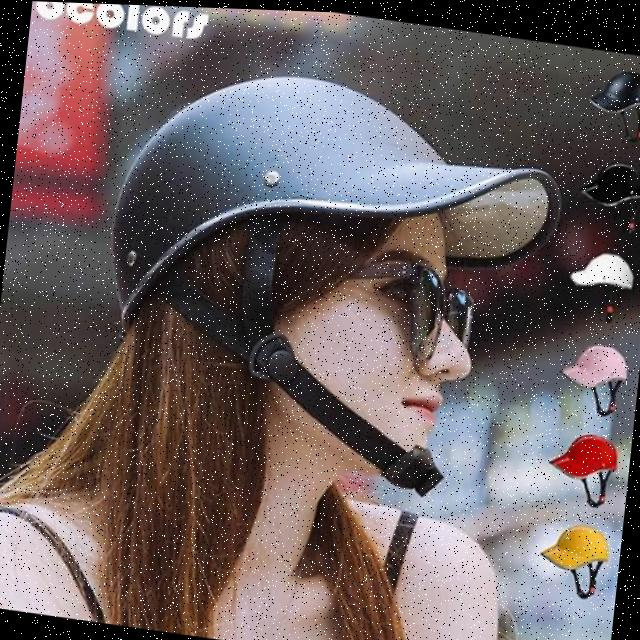illegal_helmet: (75, 40, 576, 513), (526, 502, 618, 606), (536, 415, 624, 510), (562, 225, 640, 326), (554, 324, 635, 418), (572, 137, 640, 233), (583, 47, 640, 144)
